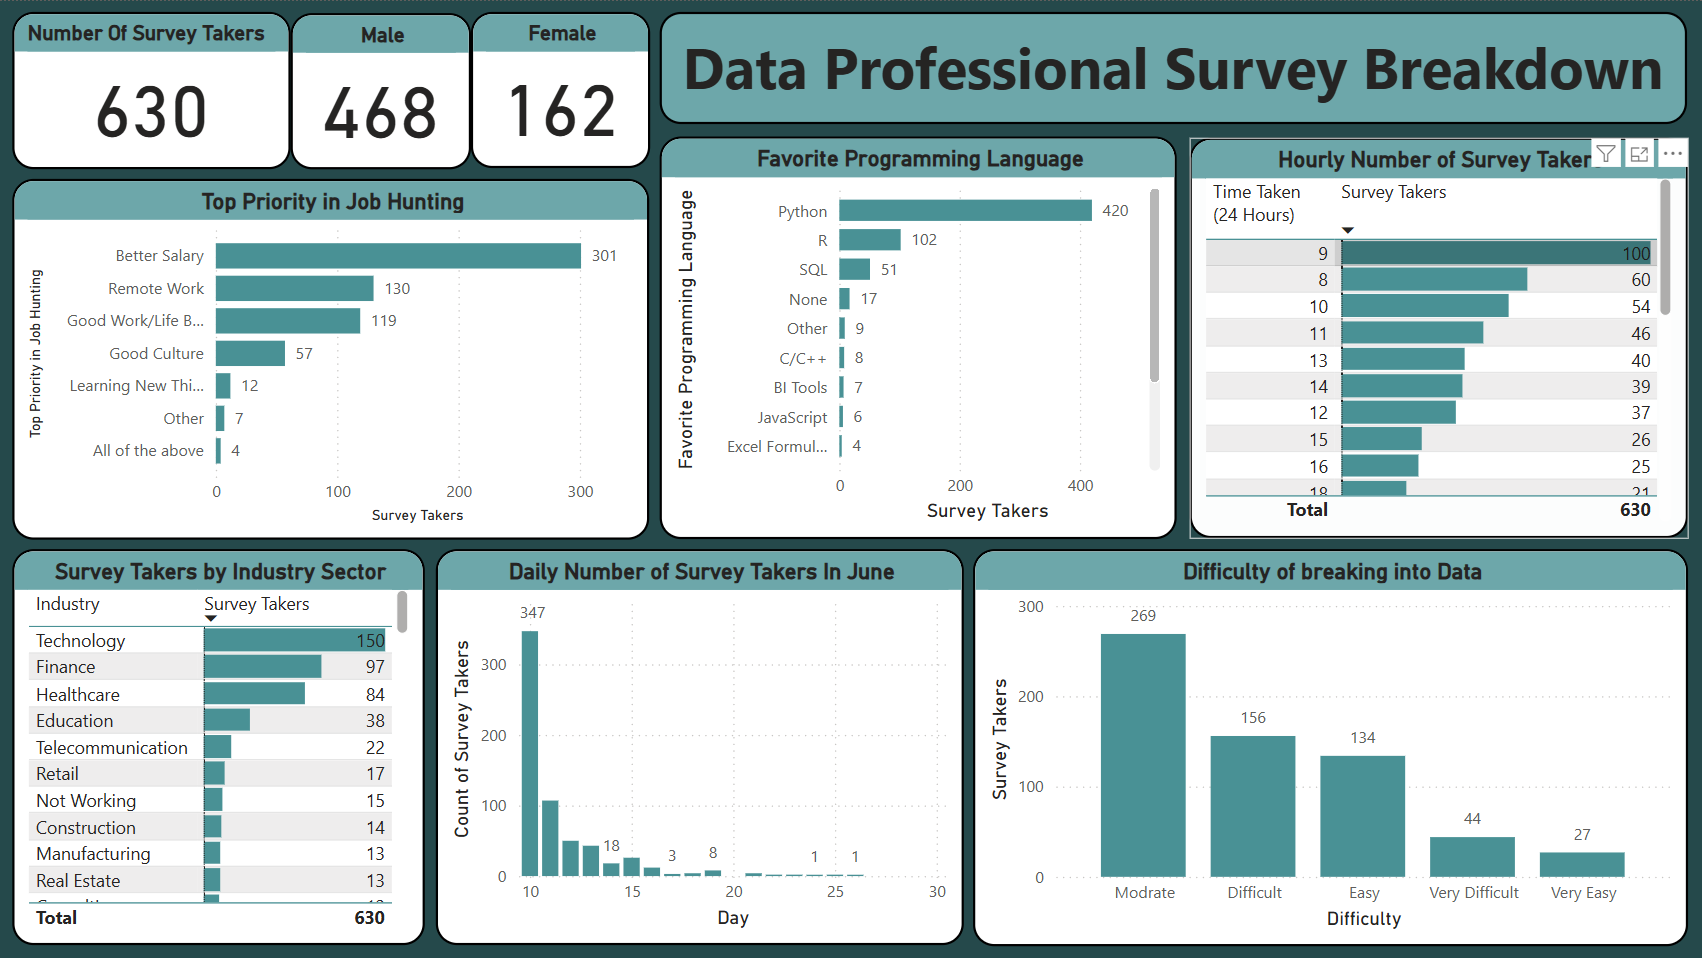

The dashboard page shown, as its layout file describes it:
{"tool":"powerbi","page":{"name":"Key Metrics & Demographics","canvas":[1280,720],"ordinal":0},"visuals":[{"type":"columnChart","title":"Difficulty of breaking into Data","fields":{"Category":["Data Professional Survey.difficulty Level to break into Data"],"Y":["CountNonNull(Data Professional Survey.Survey Takers)"]},"box":[731.8,411.8,537.3,298.2],"z":0},{"type":"barChart","title":"Top Priority in Job Hunting","fields":{"Category":["Data Professional Survey.Top Priority in Job Hunting"],"Y":["CountNonNull(Data Professional Survey.Survey Takers)"]},"box":[10,133.3,478.8,271],"z":1000},{"type":"card","title":"Number Of Survey Takers","fields":{"Values":["CountNonNull(Data Professional Survey.Survey Takers)"]},"box":[9.9,7.9,209,118.3],"z":2000},{"type":"card","title":"Male","fields":{"Values":["Data Professional Survey.Male Count"]},"box":[218.8,8.9,135.5,117.7],"z":3000},{"type":"card","title":"Female","fields":{"Values":["Data Professional Survey.Female Count"]},"box":[354.4,7.8,134.4,117.7],"z":4000},{"type":"barChart","title":"Favorite Programming Language","fields":{"Category":["Data Professional Survey.Favorite Programming Language"],"Y":["CountNonNull(Data Professional Survey.Survey Takers)"]},"box":[496.5,102.2,388.8,302.1],"z":5000},{"type":"columnChart","title":"Daily Number of Survey Takers In June","fields":{"Category":["Data Professional Survey.Date Taken (America/New_York).Variation.Date Hierarchy.Day"],"Y":["CountNonNull(Data Professional Survey.Survey Takers)"]},"box":[327.8,412.2,396.7,297.8],"z":6000},{"type":"tableEx","title":"Hourly Number of Survey Takers","fields":{"Values":["Data Professional Survey.Time Taken (America/New_York)","CountNonNull(Data Professional Survey.Survey Takers)"]},"box":[894.5,102.7,374.5,300.9],"z":7000},{"type":"tableEx","title":"Survey Takers by Industry Sector","fields":{"Values":["Data Professional Survey.Industry","Data Professional Survey.Survey Takers"]},"box":[9.9,412.1,309.6,297.7],"z":8000},{"type":"textbox","box":[496.5,7.8,772,84.4],"z":9000}]}

Visuals, with their boxes in screenshot pixels (x1, y1, x2, y2), scaled from the page's 1280x720 canvas onto the 1702x958 screenshot:
"Difficulty of breaking into Data" columnChart: (973, 548, 1688, 945)
"Top Priority in Job Hunting" barChart: (13, 177, 650, 538)
"Number Of Survey Takers" card: (13, 11, 291, 168)
"Male" card: (291, 12, 471, 168)
"Female" card: (471, 10, 650, 167)
"Favorite Programming Language" barChart: (660, 136, 1177, 538)
"Daily Number of Survey Takers In June" columnChart: (436, 548, 963, 945)
"Hourly Number of Survey Takers" tableEx: (1189, 137, 1687, 537)
"Survey Takers by Industry Sector" tableEx: (13, 548, 425, 944)
textbox: (660, 10, 1687, 123)
